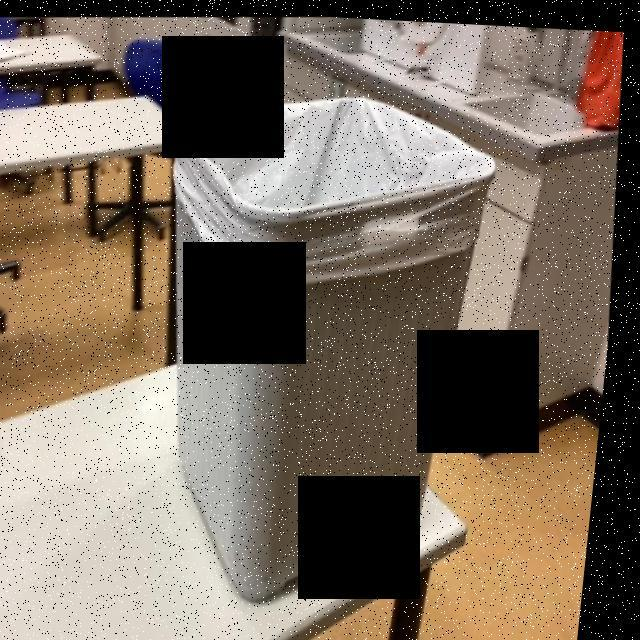bin: (86, 36, 543, 640)
